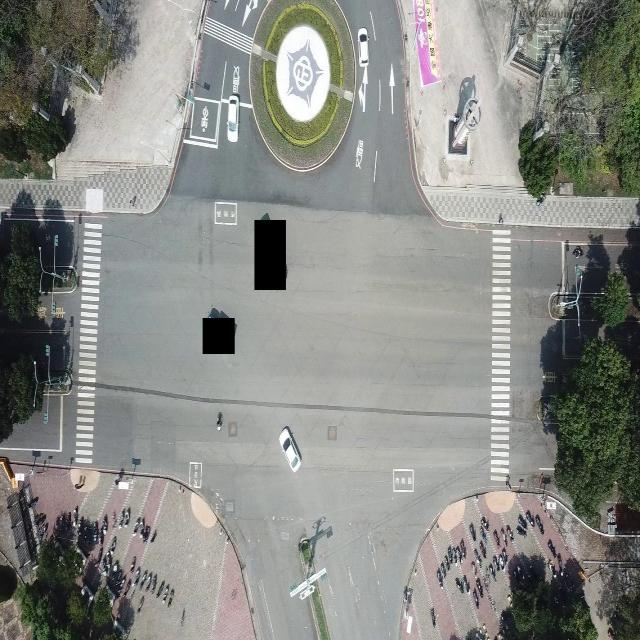car: (278, 425, 302, 472), (227, 93, 240, 142), (358, 27, 370, 66)
